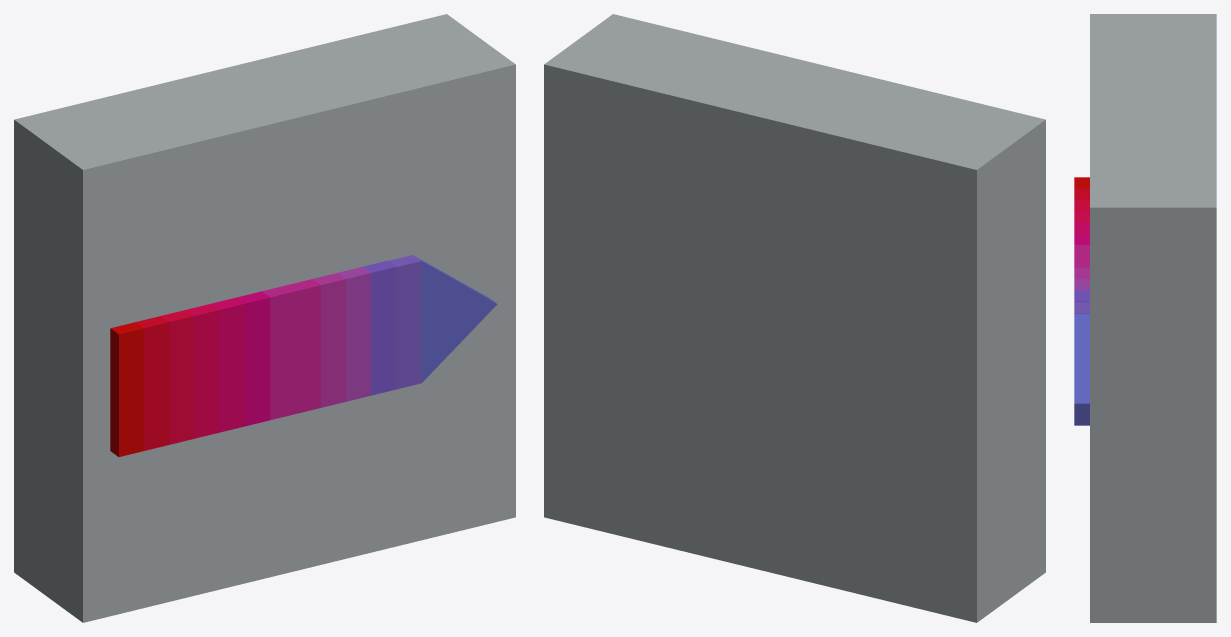
File: tinker.obj
3 views of the same model, side by side, from view 1: azimuth 30°, elevation 25°; view 2: azimuth 150°, elevation 25°; view 3: azimuth 270°, elevation 25° (orthographic). The views are drawn at different scales.
Visible parts, largest first — view 1: group_0_10988977, group_0_12787854, group_0_6382789, group_0_13631488, group_0_14024807, group_0_7754948, group_0_14090275, group_0_13500539, group_0_14286930, group_0_14286907, group_0_8018880, group_0_10765485 (+1 smaller); view 2: group_0_10988977; view 3: group_0_10988977, group_0_6382789, group_0_12787854.
Boxes of the visible parts, x1,y1,x2,y2 form: group_0_10988977: (14, 14, 515, 622); group_0_12787854: (262, 279, 320, 420); group_0_6382789: (417, 257, 497, 382); group_0_13631488: (110, 322, 143, 456); group_0_14024807: (211, 297, 245, 432); group_0_7754948: (363, 260, 396, 395); group_0_14090275: (135, 316, 169, 450); group_0_13500539: (237, 291, 270, 426); group_0_14286930: (186, 304, 219, 438); group_0_14286907: (161, 310, 194, 444); group_0_8018880: (389, 255, 421, 389); group_0_10765485: (338, 267, 370, 401); group_0_10988977: (544, 14, 1045, 622); group_0_10988977: (1090, 14, 1216, 622); group_0_6382789: (1074, 313, 1089, 425); group_0_12787854: (1074, 245, 1089, 267).
Size of the model in its own units: 1 by 1 by 0.31.
